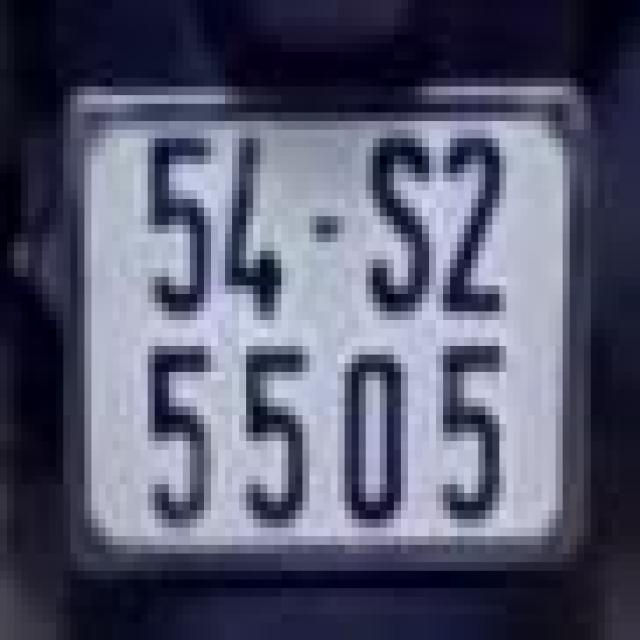0: (327, 342, 411, 532)
2: (436, 121, 513, 320)
4: (225, 121, 288, 329)
5: (436, 328, 520, 528), (134, 125, 218, 316), (141, 337, 225, 528), (232, 338, 310, 536)
S: (359, 126, 436, 324)
